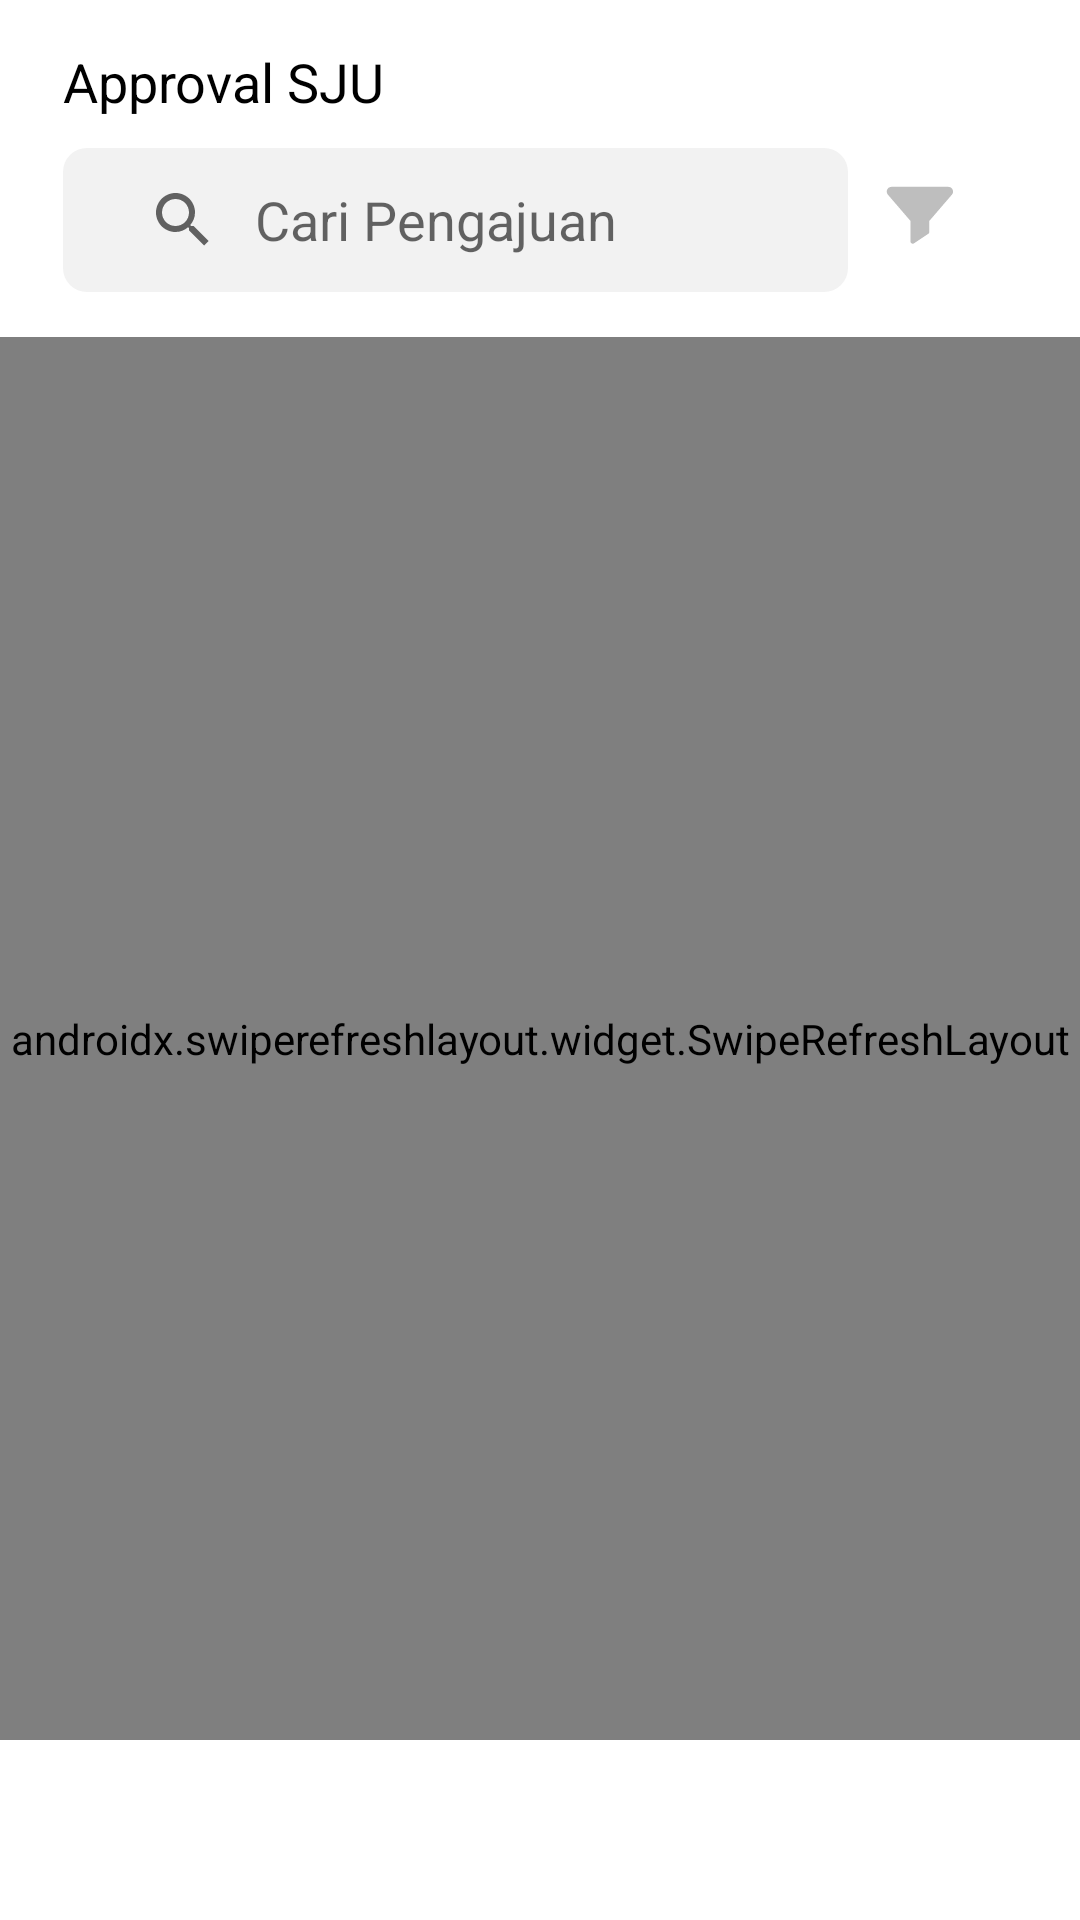

Screen size 1080*1920. Icon name, then its center in pixels as (x,y):
filter: (920,215)
